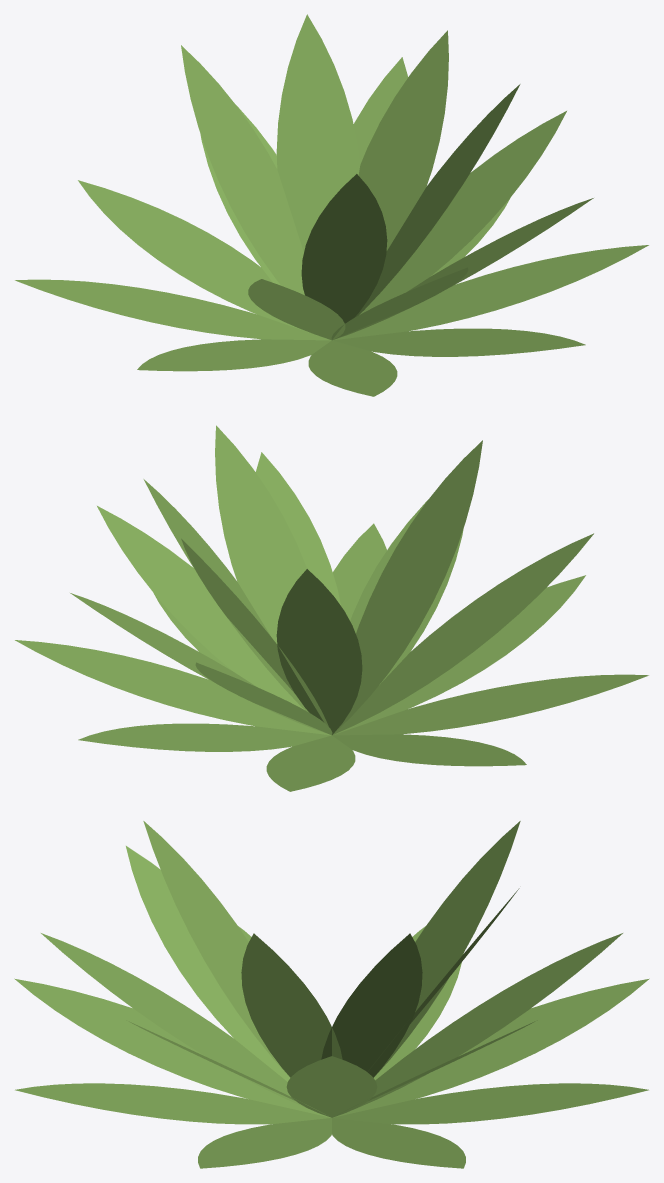
File: Vegetation_Fern_04.fbx
The picture shows the model from 3 angles, top to bottom: view 1: azimuth 30°, elevation 25°; view 2: azimuth 150°, elevation 25°; view 3: azimuth 270°, elevation 25°; orthographic projection. The views are drawn at different scales.
Parts seen in each view (by area): view 1: Vegetation_Fern_04; view 2: Vegetation_Fern_04; view 3: Vegetation_Fern_04.
Part boxes in pixels (x1=…): Vegetation_Fern_04: x1=15, y1=14, x2=648, y2=396; Vegetation_Fern_04: x1=15, y1=425, x2=648, y2=791; Vegetation_Fern_04: x1=14, y1=821, x2=649, y2=1168.
Bounding box in the file's own units: 726 × 333 × 726.
